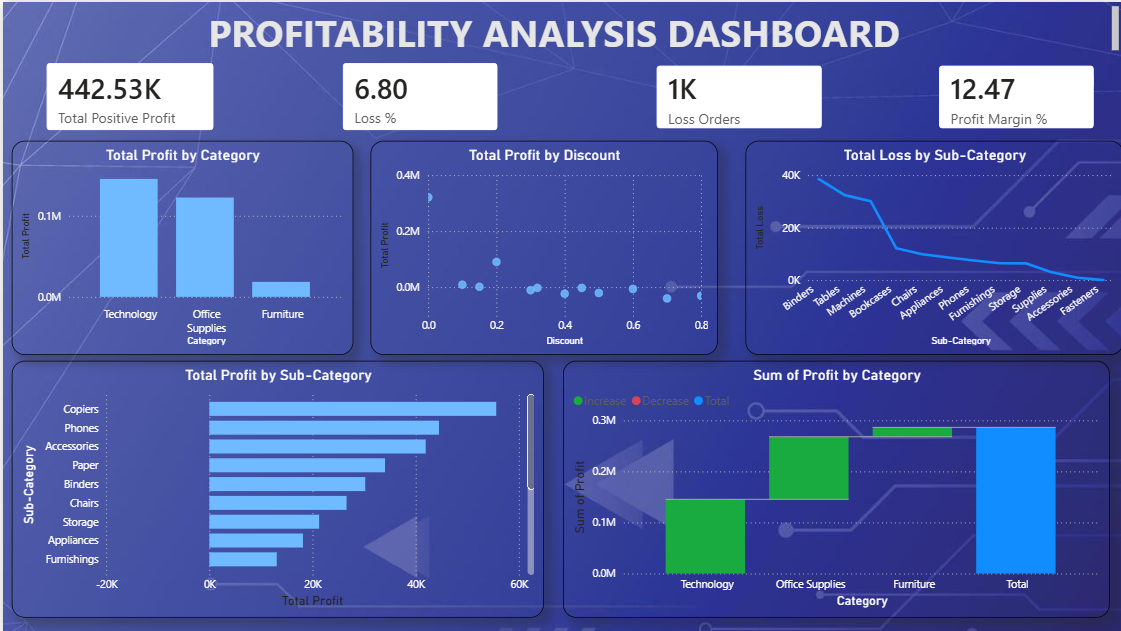

This screenshot's page, from the dashboard's own definition file:
{"tool":"powerbi","page":{"name":"Profitability Analysis","canvas":[1280,720],"ordinal":3},"visuals":[{"type":"columnChart","fields":{"Category":["Superstore.Category"],"Y":["Superstore.Total Profit"]},"box":[10,158.3,390,245],"z":0},{"type":"barChart","fields":{"Category":["Superstore.Sub-Category"],"Y":["Superstore.Total Profit"]},"box":[10,410,608.3,293.3],"z":1000},{"type":"lineChart","fields":{"Category":["Superstore.Sub-Category"],"Y":["Superstore.Total Loss"]},"box":[848.3,158.3,431.7,245],"z":2000},{"type":"scatterChart","fields":{"Y":["Superstore.Total Profit"],"X":["Superstore.Discount"]},"box":[420,158.3,396.7,245],"z":3000},{"type":"waterfallChart","fields":{"Category":["Superstore.Category"],"Y":["Sum(Superstore.Profit)"]},"box":[640,410,625,293.3],"z":4000},{"type":"textbox","box":[0,0,1280,63.3],"z":5000},{"type":"cardVisual","fields":{"Data":["Superstore.Loss %"]},"box":[371.7,53.3,211.7,111.7],"z":6000},{"type":"cardVisual","fields":{"Data":["Superstore.Loss Orders"]},"box":[730,55,223.3,106.7],"z":7000},{"type":"cardVisual","fields":{"Data":["Superstore.Total Positive Profit"]},"box":[33.3,53.3,225,111.7],"z":8000},{"type":"cardVisual","fields":{"Data":["Superstore.Profit Margin %"]},"box":[1053.3,55,211.7,106.7],"z":9000}]}

Visuals, with their boxes in screenshot pixels (x1, y1, x2, y2), scaled from the page's 1280x720 canvas onto the 1121x631 screenshot:
columnChart - Superstore.Category x Superstore.Total Profit: [9, 139, 350, 353]
barChart - Superstore.Sub-Category x Superstore.Total Profit: [9, 359, 541, 616]
lineChart - Superstore.Sub-Category x Superstore.Total Loss: [743, 139, 1120, 353]
scatterChart - Superstore.Total Profit x Superstore.Discount: [368, 139, 715, 353]
waterfallChart - Superstore.Category x Sum(Superstore.Profit): [560, 359, 1108, 616]
textbox: [0, 0, 1120, 55]
cardVisual - Superstore.Loss %: [326, 47, 511, 145]
cardVisual - Superstore.Loss Orders: [639, 48, 835, 142]
cardVisual - Superstore.Total Positive Profit: [29, 47, 226, 145]
cardVisual - Superstore.Profit Margin %: [922, 48, 1108, 142]
